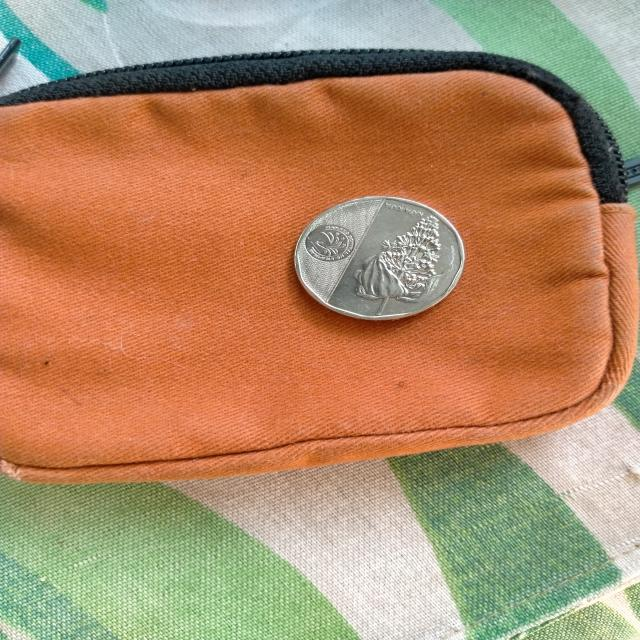10_New_Back: (348, 212, 442, 306)
